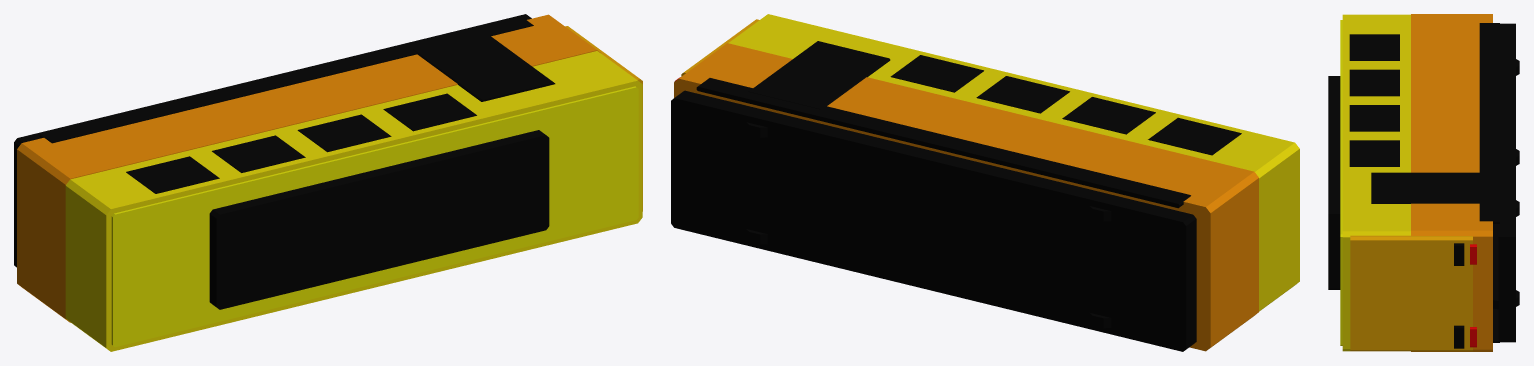
The model's file is tramcab-canonical.obj.
3 renders of one model, left to right at view 1: azimuth 30°, elevation 25°; view 2: azimuth 150°, elevation 25°; view 3: azimuth 270°, elevation 25°, orthographic. The views are drawn at different scales.
Visible parts, largest first — view 1: RoofPanel, RoofPack, LowerBody, UpperBody, Skirt_1, DoorFrame_1, SideWindow_0_1, SideWindow_2_1, SideWindow_1_1, SideWindow_3_1, Underframe; view 2: Underframe, LowerBody, UpperBody, Skirt_1, DoorFrame_1, SideWindow_2_1, SideWindow_0_1, SideWindow_1_1, SideWindow_3_1; view 3: LowerBody, CabNose, UpperBody, Underframe, Skirt_1, DoorFrame_1, RoofPack, SideWindow_1_1, SideWindow_0_1, SideWindow_2_1, SideWindow_3_1, RoofPanel (+4 smaller).
Boxes of the visible parts, x1,y1,x2,y2 form: RoofPanel: (111, 86, 638, 347); RoofPack: (209, 130, 549, 309); LowerBody: (17, 14, 600, 322); UpperBody: (65, 51, 642, 351); Skirt_1: (39, 16, 533, 143); DoorFrame_1: (413, 32, 555, 101); SideWindow_0_1: (126, 156, 219, 193); SideWindow_2_1: (297, 114, 391, 152); SideWindow_1_1: (212, 135, 305, 172); SideWindow_3_1: (383, 93, 476, 131); Underframe: (14, 14, 531, 267); Underframe: (671, 90, 1196, 351); LowerBody: (674, 43, 1258, 351); UpperBody: (728, 14, 1299, 311); Skirt_1: (696, 78, 1190, 208); DoorFrame_1: (748, 41, 890, 109); SideWindow_2_1: (976, 76, 1069, 113); SideWindow_0_1: (1148, 117, 1241, 155); SideWindow_1_1: (1062, 97, 1155, 134); SideWindow_3_1: (890, 55, 983, 92); LowerBody: (1411, 14, 1492, 351); CabNose: (1350, 235, 1472, 351); UpperBody: (1342, 14, 1410, 351); Underframe: (1498, 23, 1515, 342); Skirt_1: (1479, 23, 1499, 223); DoorFrame_1: (1371, 172, 1487, 203); RoofPack: (1328, 76, 1340, 289); SideWindow_1_1: (1349, 69, 1399, 96); SideWindow_0_1: (1349, 34, 1399, 60); SideWindow_2_1: (1349, 105, 1399, 131); SideWindow_3_1: (1349, 140, 1399, 166); RoofPanel: (1340, 20, 1342, 345).
Bounding box in the file's own units: 1037 × 266 × 374.
